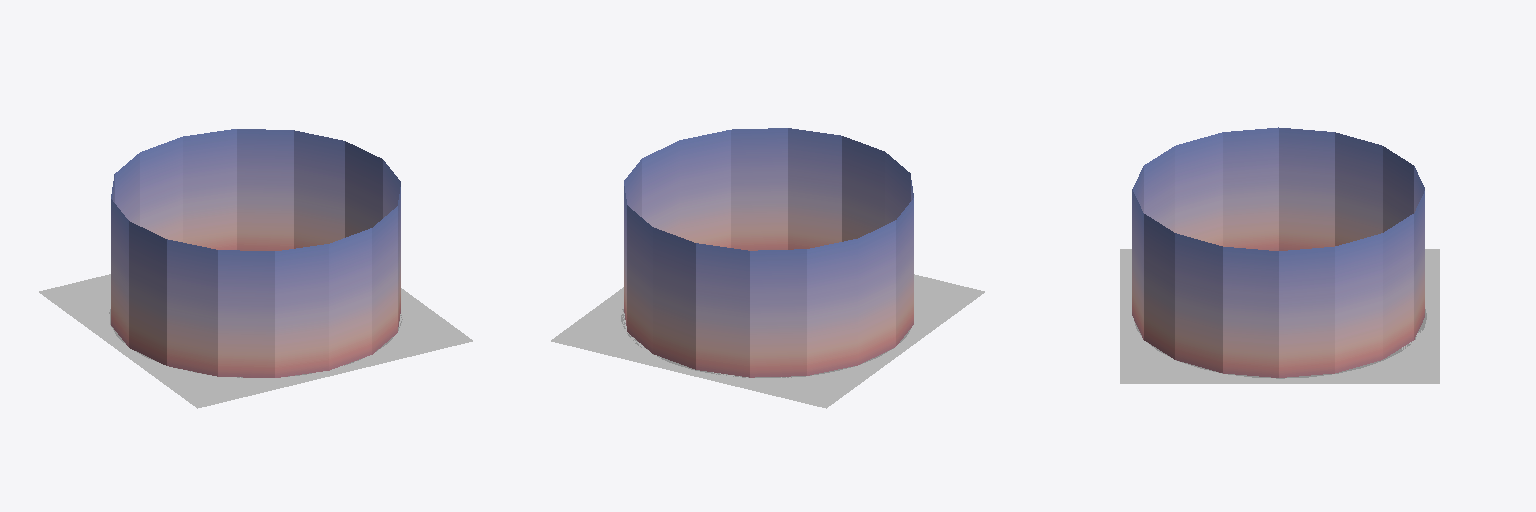
The picture shows the model from 3 angles: view 1: azimuth 30°, elevation 25°; view 2: azimuth 150°, elevation 25°; view 3: azimuth 270°, elevation 25°; orthographic projection.
Visible parts, largest first — view 1: Cylinder, Plane_Plane.001; view 2: Cylinder, Plane_Plane.001; view 3: Cylinder, Plane_Plane.001.
Boxes of the visible parts, x1=… form: Cylinder: x1=111, y1=129, x2=400, y2=377; Plane_Plane.001: x1=39, y1=274, x2=472, y2=408; Cylinder: x1=624, y1=128, x2=913, y2=377; Plane_Plane.001: x1=551, y1=274, x2=984, y2=408; Cylinder: x1=1132, y1=127, x2=1424, y2=377; Plane_Plane.001: x1=1120, y1=249, x2=1439, y2=383.
Size of the model in its own units: 301 by 138 by 301.
5 materials, 1 textured.